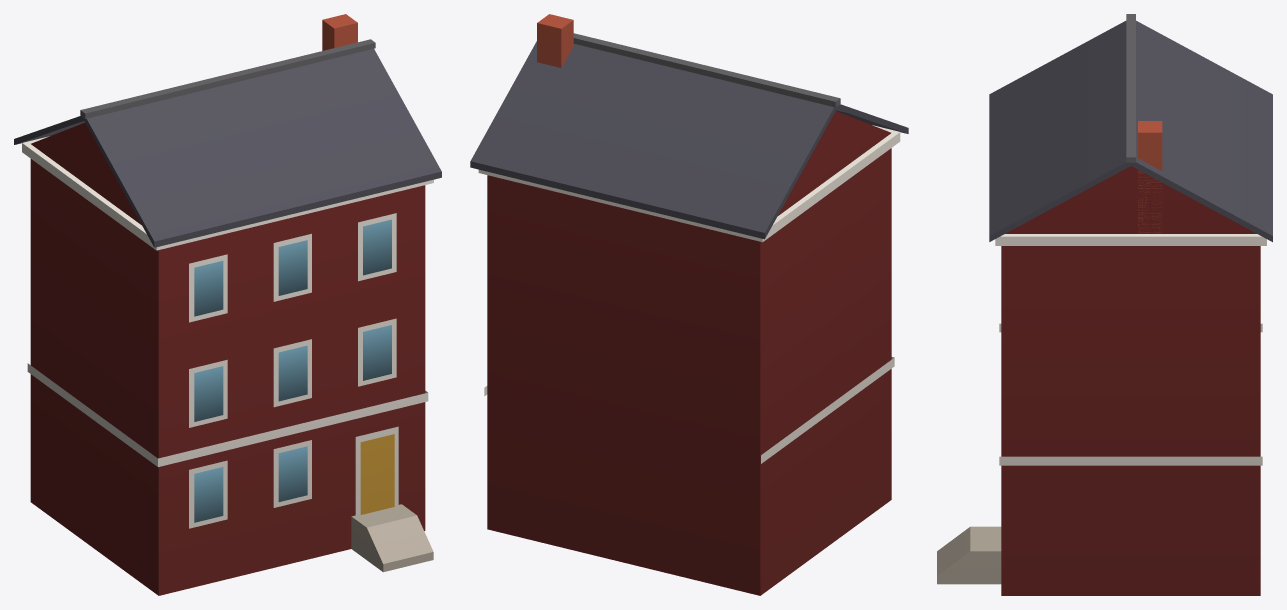
The model's file is lane_w10_far.glb.
3 views of the same model, side by side, from view 1: azimuth 30°, elevation 25°; view 2: azimuth 150°, elevation 25°; view 3: azimuth 270°, elevation 25° (orthographic). The views are drawn at different scales.
Visible parts, largest first — view 1: lane_w10_far; view 2: lane_w10_far; view 3: lane_w10_far.
Part boxes in pixels (x1,y1,x2,y2): lane_w10_far: [14, 14, 441, 595]; lane_w10_far: [470, 14, 908, 595]; lane_w10_far: [937, 14, 1272, 595].
Size of the model in its own units: 9.8 by 14.79 by 9.71.
Materials: 1 (1 with a texture image).
